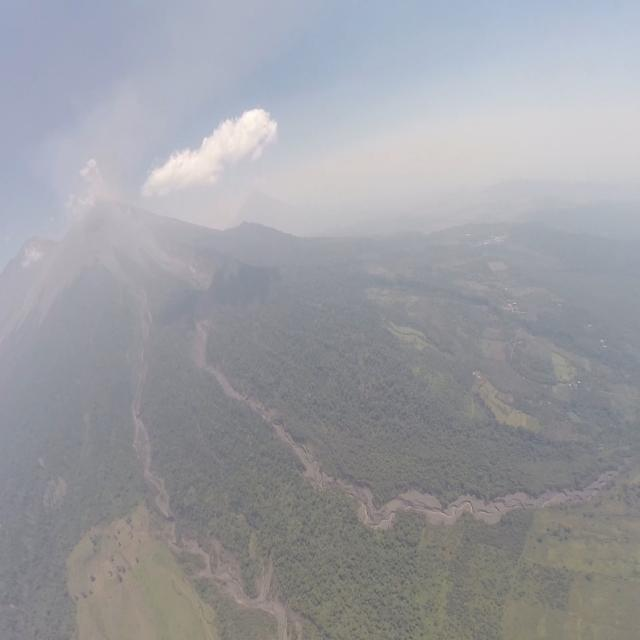Plume: (76, 154, 108, 202), (67, 192, 98, 220)
